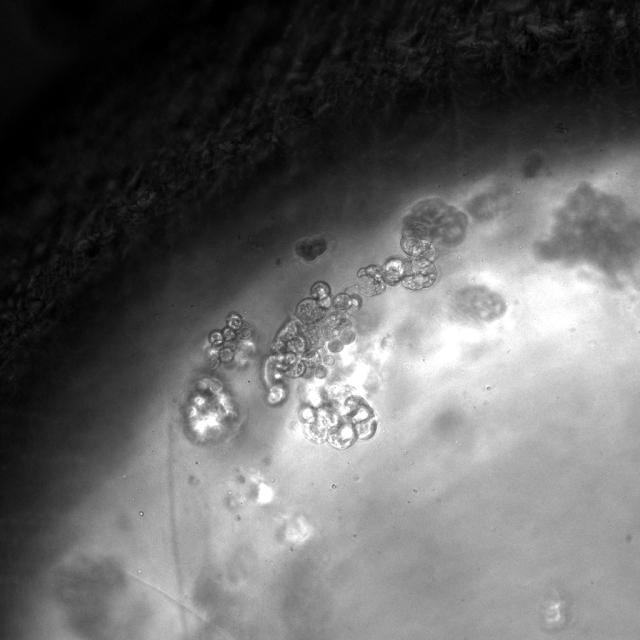organoid: (257, 223, 439, 451), (536, 183, 639, 283), (182, 312, 256, 444), (403, 197, 468, 247), (296, 235, 327, 261)
